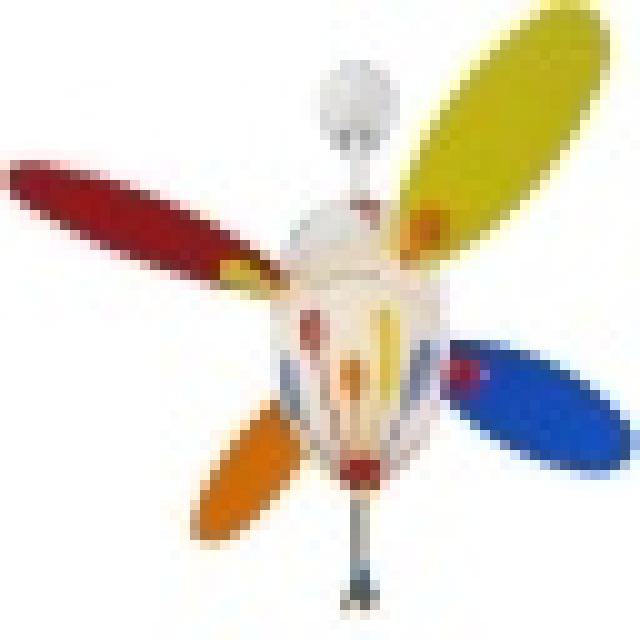Bulb: (17, 56, 634, 570)
